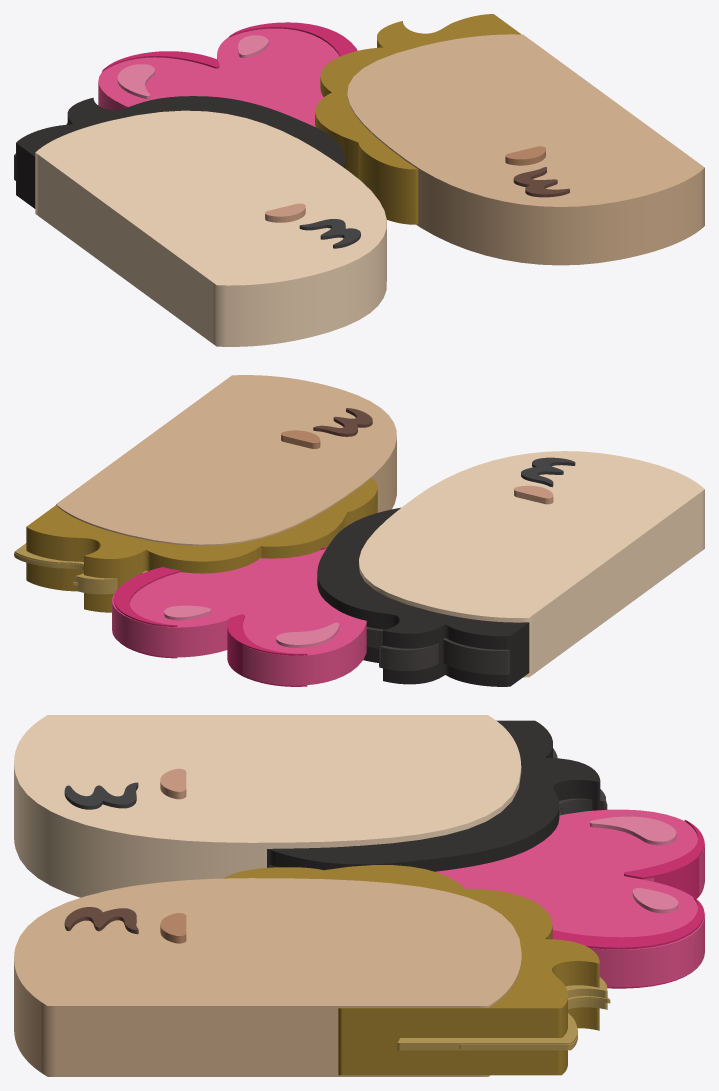
Rendered from emoji_u1f9d1_1f3fb_200d_2764_200d_1f48b_200d_1f9d1_1f3fc.glb.
3 renders of one model, top to bottom at view 1: azimuth 30°, elevation 25°; view 2: azimuth 150°, elevation 25°; view 3: azimuth 270°, elevation 25°, orthographic. The views are drawn at different scales.
Parts seen in each view (by area): view 1: emoji_u1f9d1_1f3fb_200d_2764_200d_1f48b_200d_1f9d1_1f3fc; view 2: emoji_u1f9d1_1f3fb_200d_2764_200d_1f48b_200d_1f9d1_1f3fc; view 3: emoji_u1f9d1_1f3fb_200d_2764_200d_1f48b_200d_1f9d1_1f3fc.
Part boxes in pixels (left/top/right/bottom): emoji_u1f9d1_1f3fb_200d_2764_200d_1f48b_200d_1f9d1_1f3fc: left=14, top=14, right=704, bottom=346; emoji_u1f9d1_1f3fb_200d_2764_200d_1f48b_200d_1f9d1_1f3fc: left=14, top=375, right=704, bottom=686; emoji_u1f9d1_1f3fb_200d_2764_200d_1f48b_200d_1f9d1_1f3fc: left=14, top=715, right=704, bottom=1076.
Bounding box in the file's own units: 0.0339 × 0.0048 × 0.0336.
